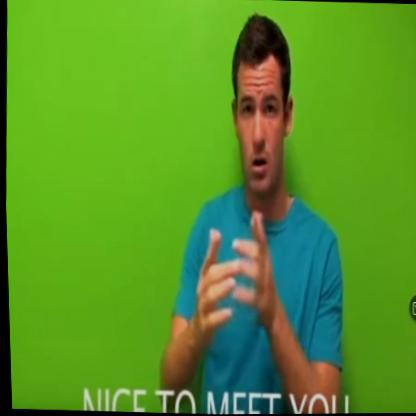NiceToMeetYou: (180, 208, 288, 356)
